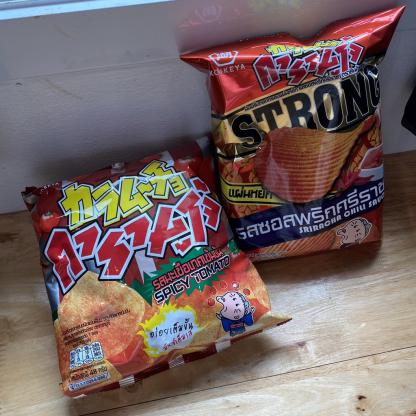potatochip: (26, 139, 294, 396), (180, 0, 404, 270)
